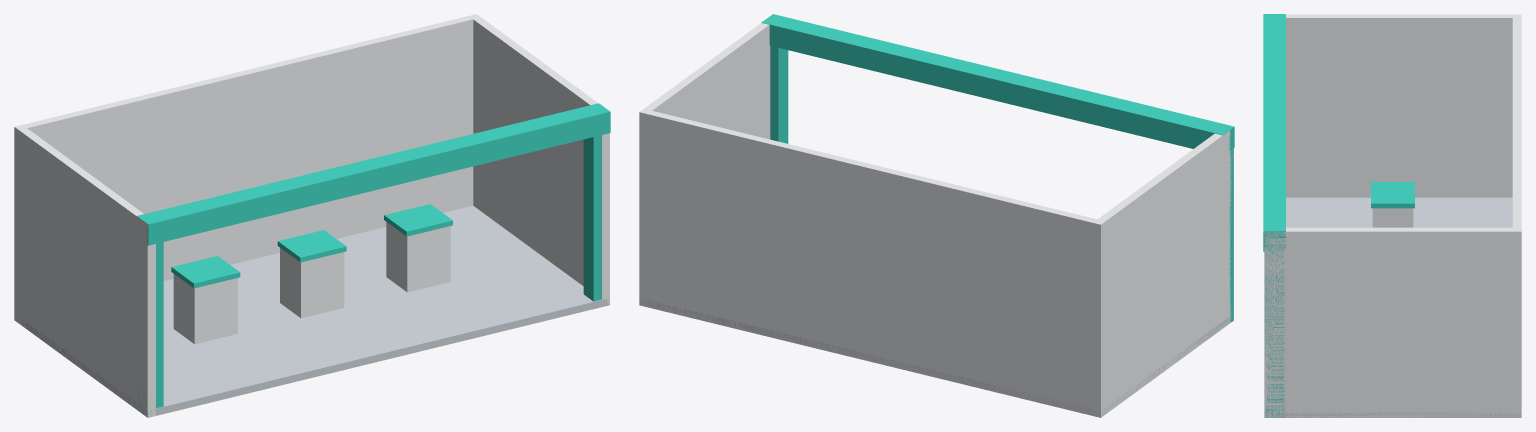
3 views of the same model, side by side, from view 1: azimuth 30°, elevation 25°; view 2: azimuth 150°, elevation 25°; view 3: azimuth 270°, elevation 25° (orthographic). The views are drawn at different scales.
Visible parts, largest first — view 1: Exhibition Booth Concept; view 2: Exhibition Booth Concept; view 3: Exhibition Booth Concept.
Boxes of the visible parts, x1,y1,x2,y2 form: Exhibition Booth Concept: (14, 14, 610, 417); Exhibition Booth Concept: (639, 14, 1234, 417); Exhibition Booth Concept: (1263, 14, 1521, 417).
Bounding box in the file's own units: 8 × 3.2 × 4.02.
